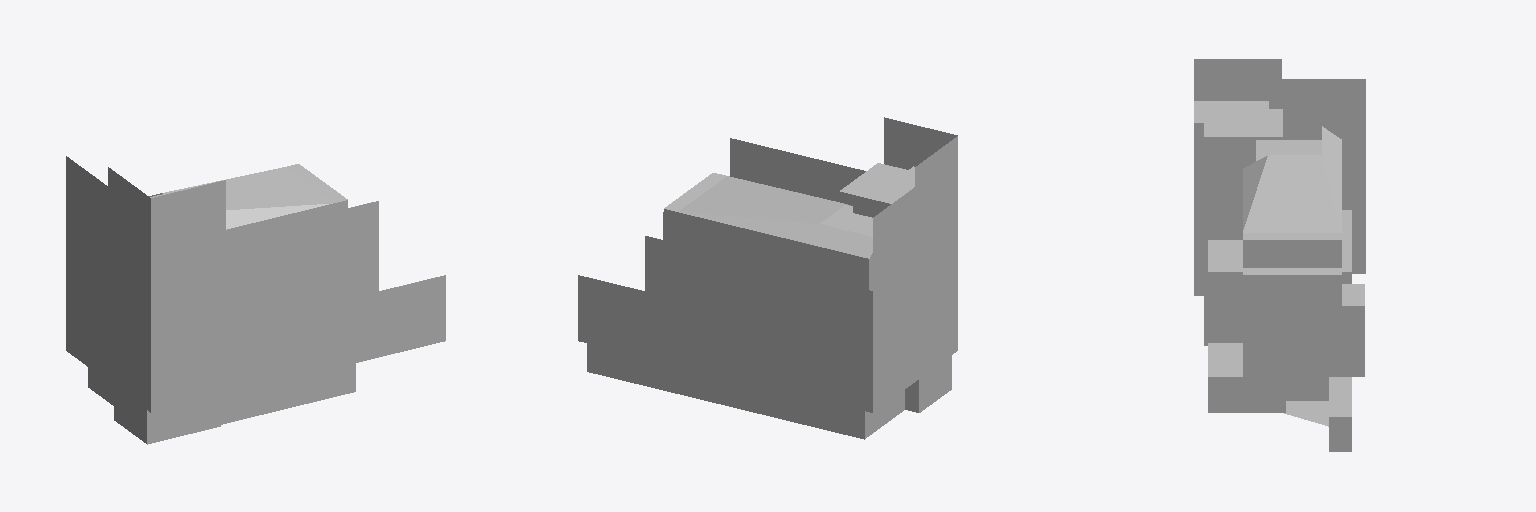
Rendered from Herman Miller.obj.
3 renders of one model, left to right at view 1: azimuth 30°, elevation 25°; view 2: azimuth 150°, elevation 25°; view 3: azimuth 270°, elevation 25°, orthographic.
Visible parts, largest first — view 1: Mesh50 Shading_Surface_Group____baffe1cb_3e54_47ad_97fe_ddc3285f, Mesh51 Shading_Surface_Group____baffe1cb_3e54_47ad_97fe_ddc3285f, Mesh48 Shading_Surface_Group____baffe1cb_3e54_47ad_97fe_ddc3285f, Mesh42 Shading_Surface_Group____baffe1cb_3e54_47ad_97fe_ddc3285f, Mesh49 Shading_Surface_Group____baffe1cb_3e54_47ad_97fe_ddc3285f, Mesh41 Space___Thermal_Zone__FLB_Parking_Area Model, Mesh32 Space___Thermal_Zone__FLB_Toilet Model, Mesh15 Space___Thermal_Zone__FLB_GENSET Model, Mesh3 Space___Thermal_Zone__FL2_Toilet Model, Mesh23 Space___Thermal_Zone__FLM_Toilet Model, Mesh29 Space___Thermal_Zone__FL3_LAUNDRY Model, Mesh21 Space___Thermal_Zone__Roof_Storage Model (+2 smaller); view 2: Mesh46 Shading_Surface_Group____baffe1cb_3e54_47ad_97fe_ddc3285f, Mesh51 Shading_Surface_Group____baffe1cb_3e54_47ad_97fe_ddc3285f, Mesh42 Shading_Surface_Group____baffe1cb_3e54_47ad_97fe_ddc3285f, Mesh48 Shading_Surface_Group____baffe1cb_3e54_47ad_97fe_ddc3285f, Mesh41 Space___Thermal_Zone__FLB_Parking_Area Model, Mesh44 Shading_Surface_Group____baffe1cb_3e54_47ad_97fe_ddc3285f, Mesh50 Shading_Surface_Group____baffe1cb_3e54_47ad_97fe_ddc3285f, Mesh45 Shading_Surface_Group____baffe1cb_3e54_47ad_97fe_ddc3285f, Mesh28 Space___Thermal_Zone__FLB_Water_Tank Model, Mesh8 Space___Thermal_Zone__Roof_Stairs Model, Mesh5 Space___Thermal_Zone__FLB_Security Model, Mesh32 Space___Thermal_Zone__FLB_Toilet Model (+2 smaller); view 3: Mesh42 Shading_Surface_Group____baffe1cb_3e54_47ad_97fe_ddc3285f, Mesh48 Shading_Surface_Group____baffe1cb_3e54_47ad_97fe_ddc3285f, Mesh16 Space___Thermal_Zone__FLM_Cafe Model, Mesh6 Space___Thermal_Zone__FL1_Cafe Model, Mesh1 Space___Thermal_Zone__FL2_OFFICE_ROOM Model, Mesh13 Space___Thermal_Zone__FL1_Showroom Model, Mesh51 Shading_Surface_Group____baffe1cb_3e54_47ad_97fe_ddc3285f, Mesh35 Space___Thermal_Zone__FL3_LIVING_ROOM Model, Mesh41 Space___Thermal_Zone__FLB_Parking_Area Model, Mesh8 Space___Thermal_Zone__Roof_Stairs Model, Mesh15 Space___Thermal_Zone__FLB_GENSET Model, Mesh30 Space___Thermal_Zone__FLB_Waste_Storage Model (+5 smaller).
Part boxes in pixels (left/top/right/bottom): Mesh50 Shading_Surface_Group____baffe1cb_3e54_47ad_97fe_ddc3285f: left=226, top=201, right=378, bottom=394; Mesh51 Shading_Surface_Group____baffe1cb_3e54_47ad_97fe_ddc3285f: left=108, top=167, right=225, bottom=412; Mesh48 Shading_Surface_Group____baffe1cb_3e54_47ad_97fe_ddc3285f: left=66, top=156, right=107, bottom=380; Mesh42 Shading_Surface_Group____baffe1cb_3e54_47ad_97fe_ddc3285f: left=149, top=164, right=347, bottom=229; Mesh49 Shading_Surface_Group____baffe1cb_3e54_47ad_97fe_ddc3285f: left=379, top=275, right=445, bottom=356; Mesh41 Space___Thermal_Zone__FLB_Parking_Area Model: left=100, top=374, right=309, bottom=424; Mesh32 Space___Thermal_Zone__FLB_Toilet Model: left=122, top=392, right=190, bottom=444; Mesh15 Space___Thermal_Zone__FLB_GENSET Model: left=310, top=363, right=355, bottom=402; Mesh3 Space___Thermal_Zone__FL2_Toilet Model: left=152, top=296, right=195, bottom=341; Mesh23 Space___Thermal_Zone__FLM_Toilet Model: left=152, top=331, right=195, bottom=374; Mesh29 Space___Thermal_Zone__FL3_LAUNDRY Model: left=152, top=261, right=195, bottom=306; Mesh21 Space___Thermal_Zone__Roof_Storage Model: left=152, top=229, right=195, bottom=270; Mesh46 Shading_Surface_Group____baffe1cb_3e54_47ad_97fe_ddc3285f: left=645, top=236, right=872, bottom=412; Mesh51 Shading_Surface_Group____baffe1cb_3e54_47ad_97fe_ddc3285f: left=884, top=117, right=957, bottom=381; Mesh42 Shading_Surface_Group____baffe1cb_3e54_47ad_97fe_ddc3285f: left=664, top=173, right=872, bottom=258; Mesh48 Shading_Surface_Group____baffe1cb_3e54_47ad_97fe_ddc3285f: left=873, top=187, right=914, bottom=412; Mesh41 Space___Thermal_Zone__FLB_Parking_Area Model: left=626, top=353, right=904, bottom=429; Mesh44 Shading_Surface_Group____baffe1cb_3e54_47ad_97fe_ddc3285f: left=678, top=215, right=868, bottom=289; Mesh50 Shading_Surface_Group____baffe1cb_3e54_47ad_97fe_ddc3285f: left=730, top=138, right=865, bottom=205; Mesh45 Shading_Surface_Group____baffe1cb_3e54_47ad_97fe_ddc3285f: left=578, top=275, right=644, bottom=356; Mesh28 Space___Thermal_Zone__FLB_Water_Tank Model: left=803, top=396, right=876, bottom=439; Mesh8 Space___Thermal_Zone__Roof_Stairs Model: left=853, top=163, right=907, bottom=217; Mesh5 Space___Thermal_Zone__FLB_Security Model: left=587, top=343, right=625, bottom=380; Mesh32 Space___Thermal_Zone__FLB_Toilet Model: left=927, top=356, right=951, bottom=406; Mesh42 Shading_Surface_Group____baffe1cb_3e54_47ad_97fe_ddc3285f: left=1243, top=126, right=1341, bottom=239; Mesh48 Shading_Surface_Group____baffe1cb_3e54_47ad_97fe_ddc3285f: left=1282, top=79, right=1365, bottom=273; Mesh16 Space___Thermal_Zone__FLM_Cafe Model: left=1243, top=284, right=1364, bottom=341; Mesh6 Space___Thermal_Zone__FL1_Cafe Model: left=1243, top=342, right=1364, bottom=376; Mesh1 Space___Thermal_Zone__FL2_OFFICE_ROOM Model: left=1243, top=268, right=1341, bottom=310; Mesh13 Space___Thermal_Zone__FL1_Showroom Model: left=1208, top=210, right=1351, bottom=342; Mesh51 Shading_Surface_Group____baffe1cb_3e54_47ad_97fe_ddc3285f: left=1194, top=59, right=1281, bottom=108; Mesh35 Space___Thermal_Zone__FL3_LIVING_ROOM Model: left=1243, top=240, right=1341, bottom=267; Mesh41 Space___Thermal_Zone__FLB_Parking_Area Model: left=1208, top=343, right=1351, bottom=426; Mesh8 Space___Thermal_Zone__Roof_Stairs Model: left=1204, top=123, right=1255, bottom=168; Mesh15 Space___Thermal_Zone__FLB_GENSET Model: left=1208, top=355, right=1242, bottom=412; Mesh30 Space___Thermal_Zone__FLB_Waste_Storage Model: left=1243, top=377, right=1285, bottom=412.
Bounding box in the file's own units: 26603 × 21548 × 13350.